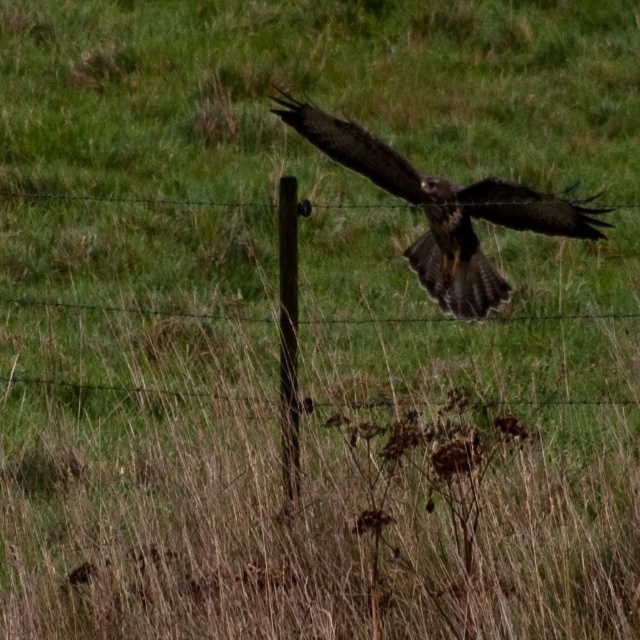Eagle: (267, 78, 616, 321)
